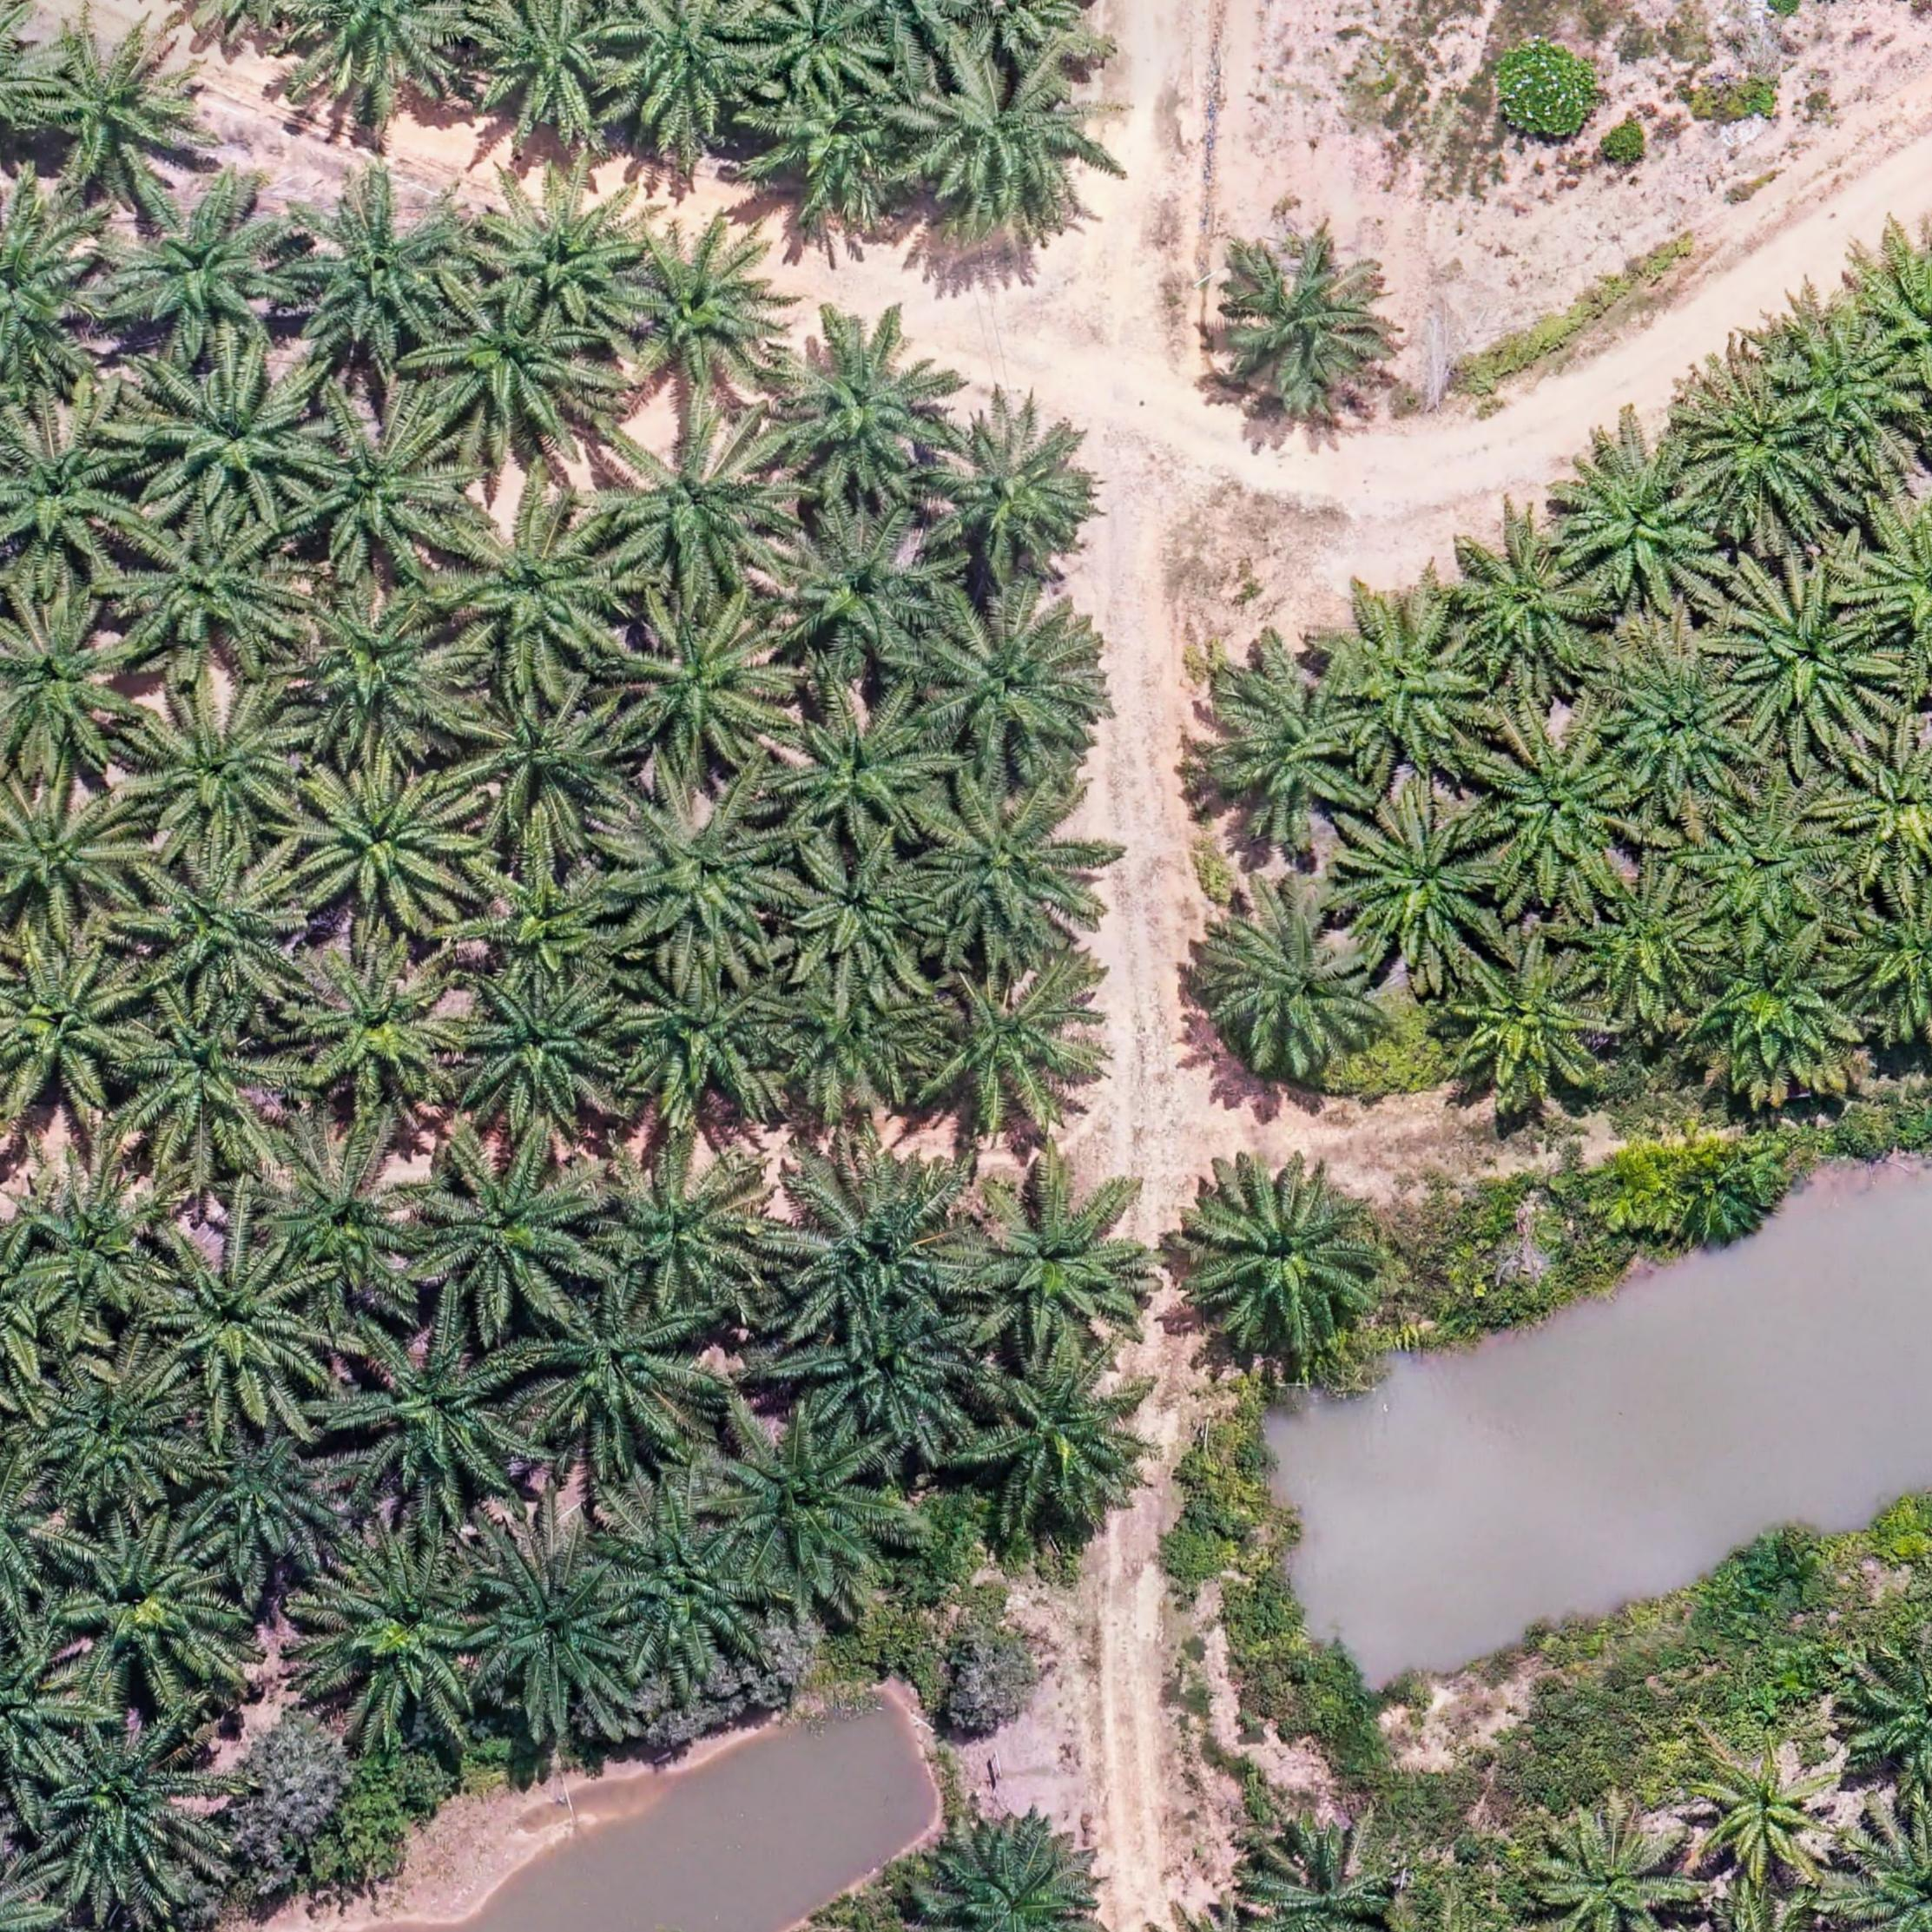palmtree: (893, 42, 1116, 241), (771, 1148, 987, 1348), (1180, 1159, 1391, 1362), (274, 170, 481, 375), (959, 1168, 1169, 1366), (25, 1711, 232, 1911), (331, 1316, 541, 1513), (304, 1532, 502, 1736), (764, 308, 966, 506), (23, 14, 221, 211), (962, 1341, 1166, 1530), (591, 412, 796, 600), (522, 1283, 725, 1470), (1214, 223, 1403, 423), (715, 1415, 913, 1605), (439, 490, 639, 678), (414, 1134, 614, 1322), (906, 962, 1111, 1145), (607, 778, 805, 964), (616, 218, 807, 409), (591, 1495, 780, 1688), (915, 777, 1111, 961), (131, 347, 333, 525), (1201, 886, 1391, 1076), (142, 1230, 333, 1415), (915, 589, 1109, 771), (458, 1543, 644, 1732), (115, 501, 313, 678), (51, 1514, 241, 1698), (283, 579, 474, 761), (614, 591, 805, 773), (104, 186, 303, 361), (126, 679, 320, 856), (281, 761, 479, 934), (610, 955, 809, 1129), (280, 945, 471, 1123), (784, 1297, 989, 1463), (587, 1145, 780, 1322), (115, 994, 303, 1175), (448, 676, 639, 853), (285, 403, 469, 586), (425, 278, 614, 455), (927, 407, 1111, 584), (471, 165, 658, 338), (257, 1131, 439, 1306), (129, 844, 317, 1014), (770, 502, 952, 676), (1201, 663, 1376, 842), (449, 971, 635, 1138), (768, 688, 955, 853), (1320, 594, 1495, 770), (745, 74, 934, 235), (1681, 1730, 1865, 1895), (1336, 798, 1506, 971), (168, 1417, 349, 1580), (1727, 571, 1897, 743), (0, 587, 150, 778), (0, 941, 152, 1125), (1559, 439, 1723, 607), (0, 188, 124, 410), (0, 410, 152, 591), (19, 1157, 182, 1325), (1442, 947, 1612, 1104), (780, 832, 950, 989), (594, 0, 780, 143), (1484, 724, 1647, 886), (1697, 931, 1867, 1085), (771, 973, 943, 1122), (462, 0, 637, 145), (462, 855, 637, 998), (35, 1353, 198, 1507), (1610, 648, 1766, 805), (0, 777, 150, 939), (276, 0, 485, 113), (1453, 524, 1605, 671), (922, 1819, 1118, 1932), (1695, 796, 1852, 932), (1690, 379, 1833, 520), (1573, 878, 1718, 1014), (1534, 1815, 1700, 1932), (1780, 320, 1916, 449), (743, 0, 897, 104), (1836, 736, 1932, 886), (1242, 1835, 1385, 1932), (1842, 1656, 1932, 1806), (1821, 1812, 1932, 1932), (1856, 892, 1932, 1054), (1872, 508, 1932, 656)
